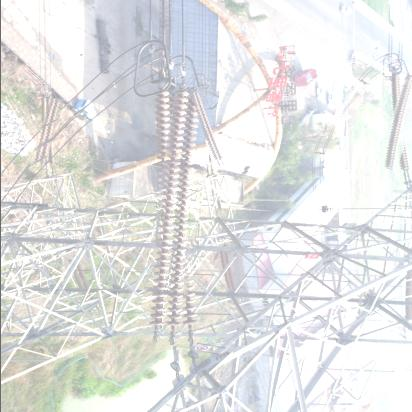insulator: (145, 87, 209, 347), (383, 75, 412, 171), (196, 88, 221, 170), (35, 98, 60, 170)
